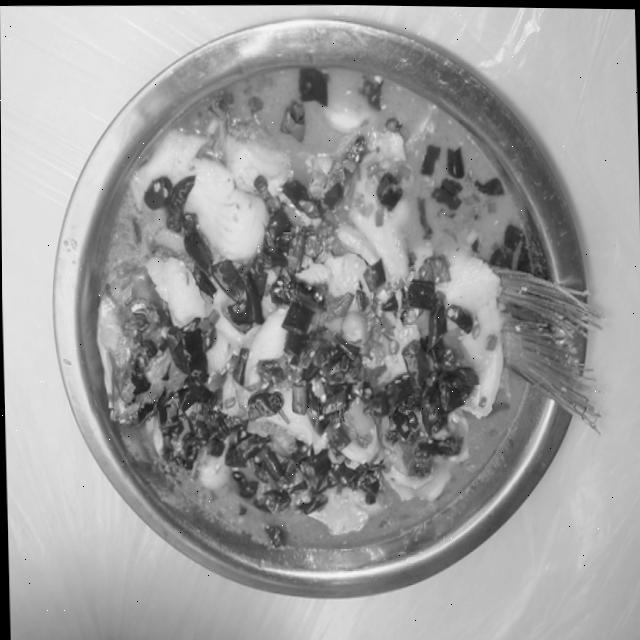汤锅炖物: (38, 8, 615, 616)
